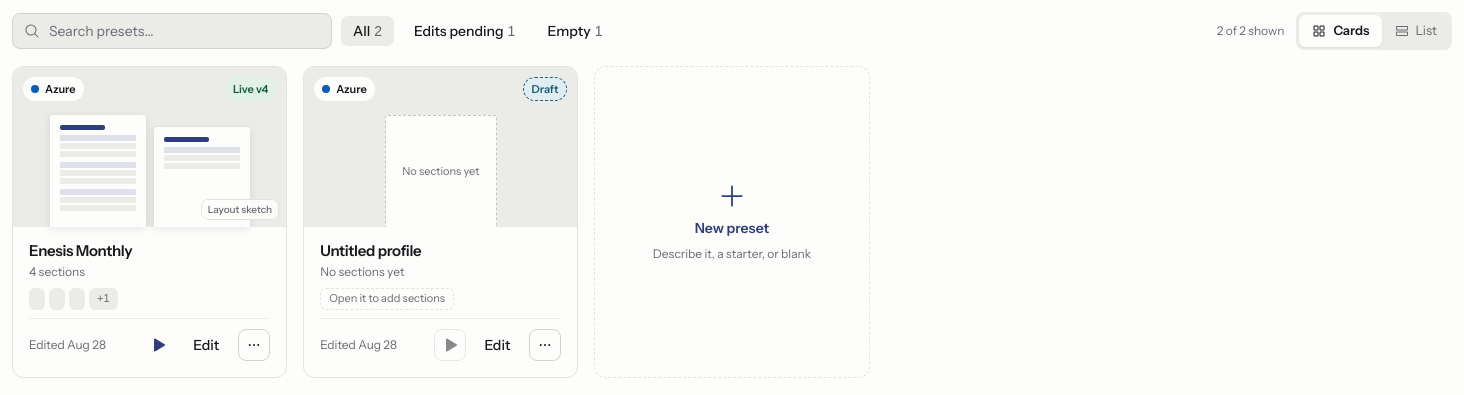
narrowing the list › search matches on name and hides the rest
The image size is (1464, 395).
Check: the link "Enesis Monthly" is shown, box [29,241,132,260]
Type "untitled" into the search field labelled "Search presets" at (172, 31), box [12,13,332,49]
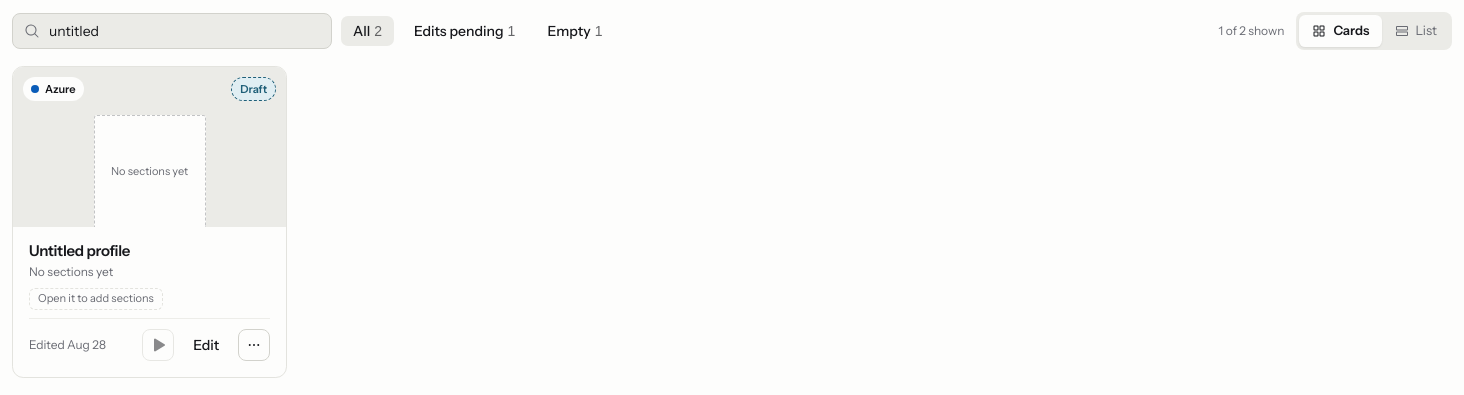
Check: the link "Untitled profile" is shown, box [29,241,130,260]
Check: the link "Enesis Monthly" is gone
